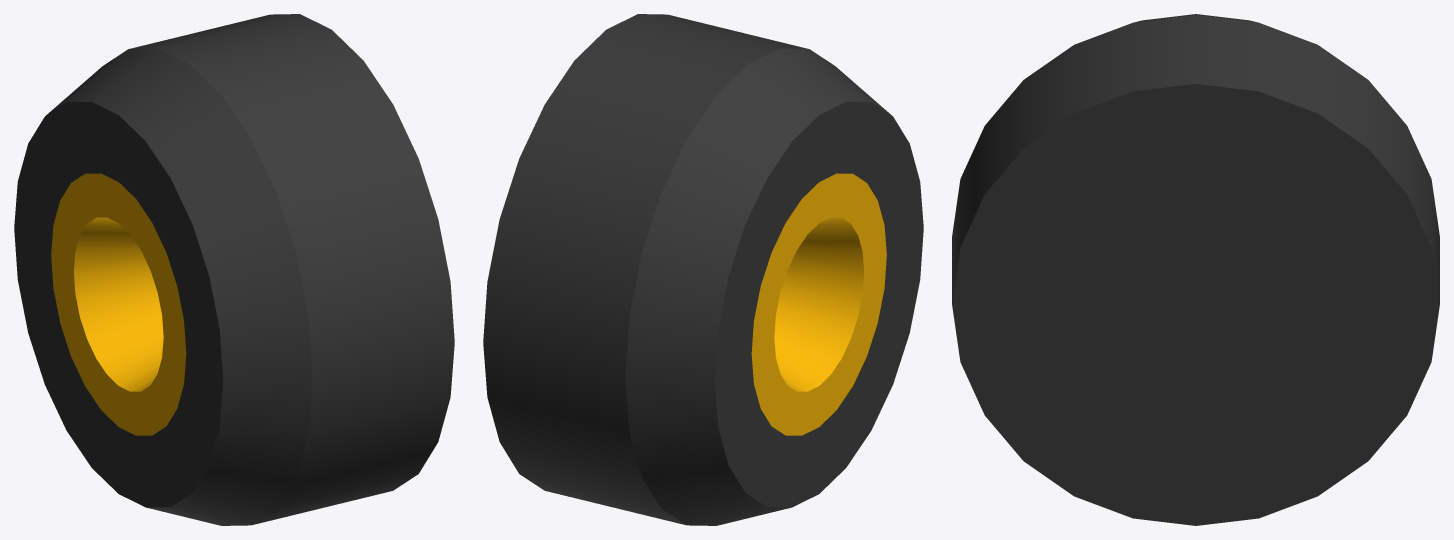
Rendered from SM_Wheel_Tractor_Front.fbx.
3 renders of one model, left to right at view 1: azimuth 30°, elevation 25°; view 2: azimuth 150°, elevation 25°; view 3: azimuth 270°, elevation 25°, orthographic.
Visible parts, largest first — view 1: SM_Wheel_Tractor_Front; view 2: SM_Wheel_Tractor_Front; view 3: SM_Wheel_Tractor_Front.
Part boxes in pixels (x1=…): SM_Wheel_Tractor_Front: x1=14, y1=14, x2=454, y2=525; SM_Wheel_Tractor_Front: x1=483, y1=14, x2=923, y2=525; SM_Wheel_Tractor_Front: x1=952, y1=14, x2=1439, y2=525.
Size of the model in its own units: 0.2693 by 0.5386 by 0.5386.
